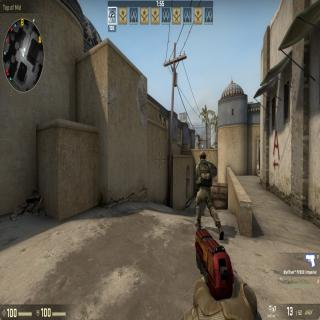CT-Body: (194, 149, 221, 240)
CT-Head: (197, 148, 207, 163)
